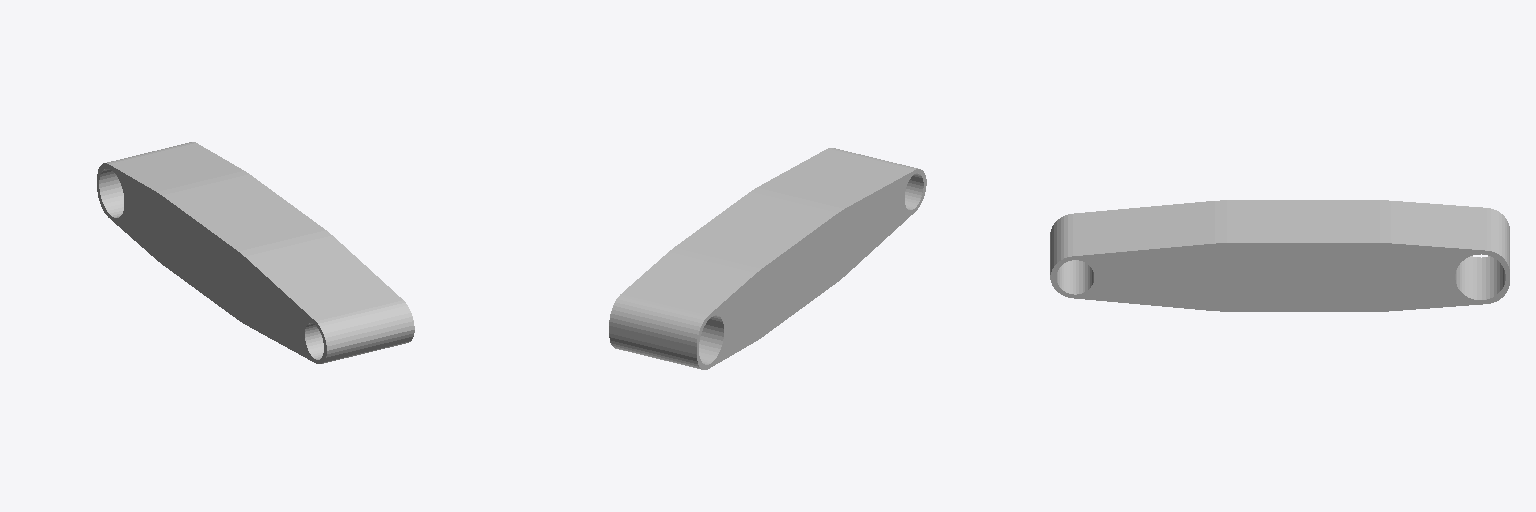
Rendered from viper_R_up_sus.obj.
3 renders of one model, left to right at view 1: azimuth 30°, elevation 25°; view 2: azimuth 150°, elevation 25°; view 3: azimuth 270°, elevation 25°, orthographic.
Parts seen in each view (by area): view 1: viper_R_up_sus; view 2: viper_R_up_sus; view 3: viper_R_up_sus.
Boxes of the visible parts, x1=… form: viper_R_up_sus: x1=97, y1=142, x2=414, y2=363; viper_R_up_sus: x1=609, y1=148, x2=926, y2=369; viper_R_up_sus: x1=1050, y1=200, x2=1509, y2=311.
Bounding box in the file's own units: 0.08 × 0.06 × 0.3633.